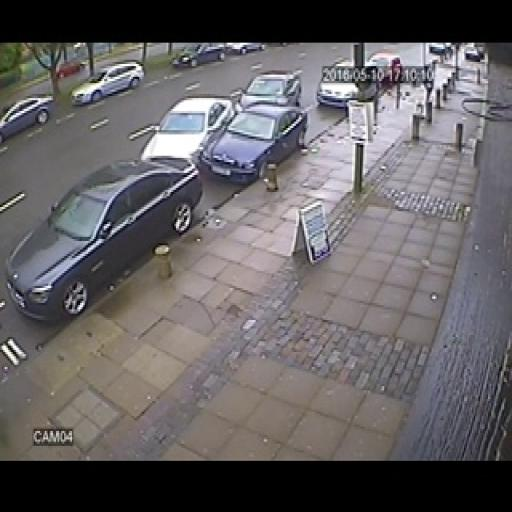Car: (6, 165, 202, 310), (212, 105, 307, 179), (157, 94, 231, 174), (72, 62, 142, 106), (0, 96, 52, 146), (316, 59, 366, 111), (240, 70, 302, 110), (173, 44, 225, 68), (367, 52, 402, 85), (56, 59, 84, 79), (225, 43, 258, 54)
Minor Accident: (156, 89, 309, 183)
